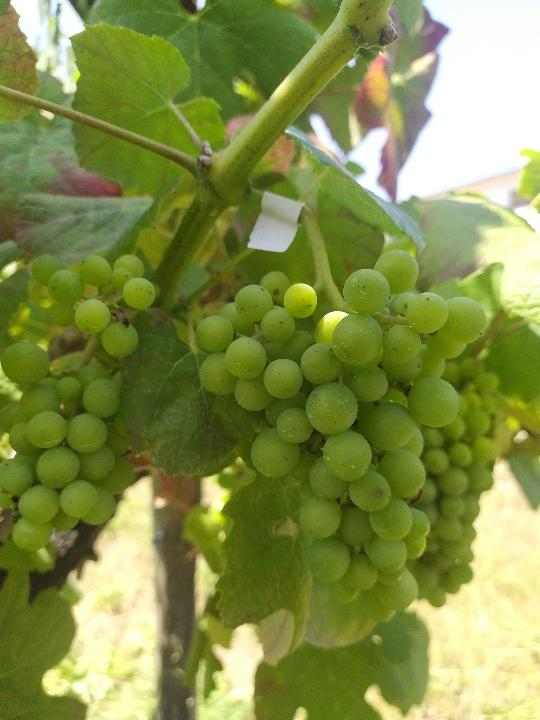grape: (192, 247, 490, 627)
